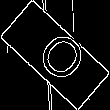O_SW: (23, 22, 87, 88)
